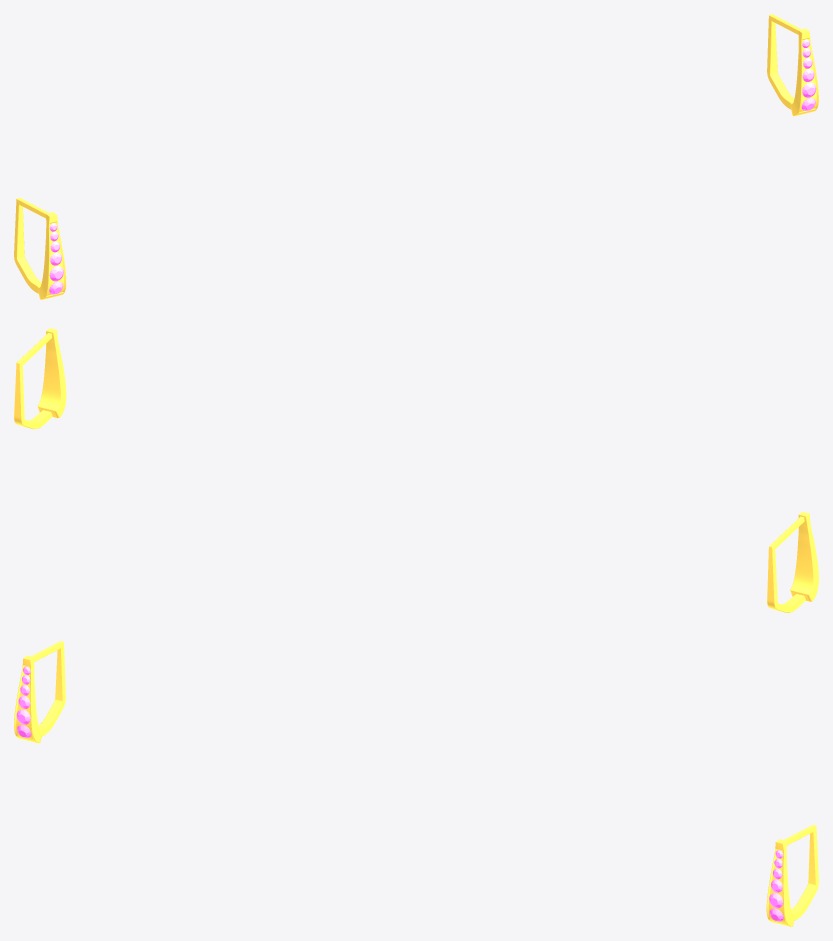
Rendered from jewelry_sparkling_hoopdrop_gold.glb.
3 renders of one model, top to bottom at view 1: azimuth 30°, elevation 25°; view 2: azimuth 150°, elevation 25°; view 3: azimuth 330°, elevation 25°, orthographic.
Parts seen in each view (by area): view 1: jewelry_sparkling_hoopdrop_gold.001; view 2: jewelry_sparkling_hoopdrop_gold.001; view 3: jewelry_sparkling_hoopdrop_gold.001.
Part boxes in pixels (x1,y1,x2,y2): jewelry_sparkling_hoopdrop_gold.001: (14, 14, 818, 299); jewelry_sparkling_hoopdrop_gold.001: (14, 328, 818, 612); jewelry_sparkling_hoopdrop_gold.001: (14, 641, 818, 926).
Size of the model in its own units: 0.3441 by 0.0366 by 0.0315.
